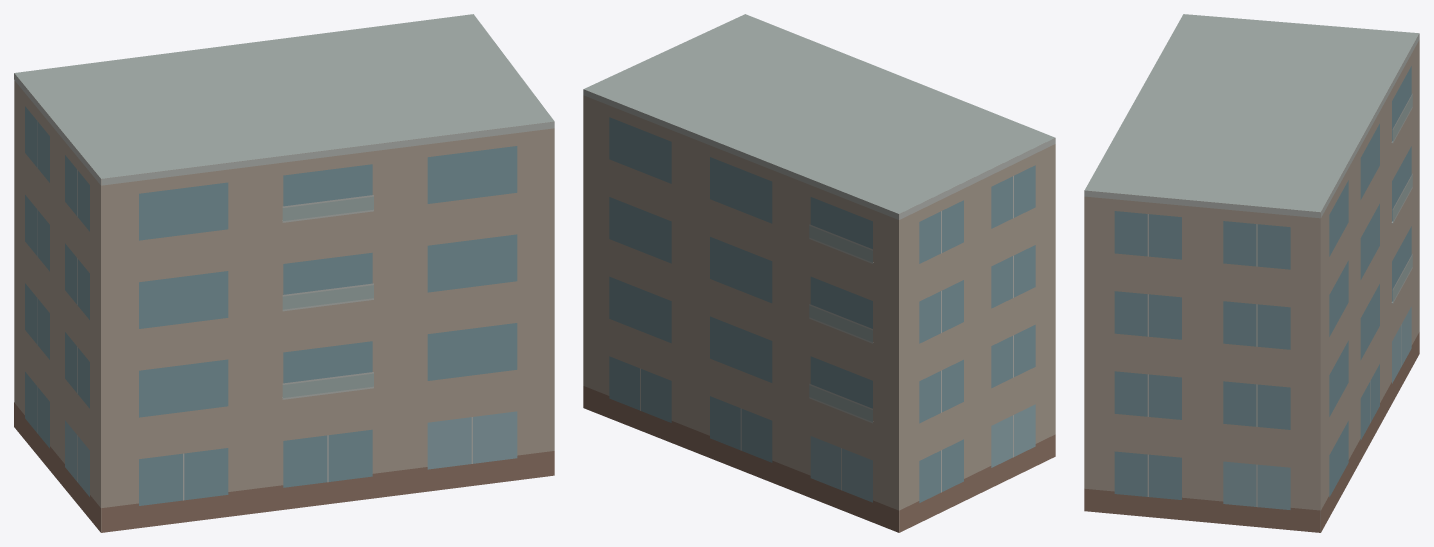
Rendered from survey-upis-32899247.glb.
3 renders of one model, left to right at view 1: azimuth 30°, elevation 25°; view 2: azimuth 150°, elevation 25°; view 3: azimuth 270°, elevation 25°, orthographic. The views are drawn at different scales.
Visible parts, largest first — view 1: survey-upis-32899247.tmp; view 2: survey-upis-32899247.tmp; view 3: survey-upis-32899247.tmp.
Part boxes in pixels (left/top/right/bottom): survey-upis-32899247.tmp: left=14, top=14, right=554, bottom=532; survey-upis-32899247.tmp: left=583, top=14, right=1055, bottom=532; survey-upis-32899247.tmp: left=1084, top=14, right=1419, bottom=532.
Bounding box in the file's own units: 16.98 × 12.8 × 12.13.
